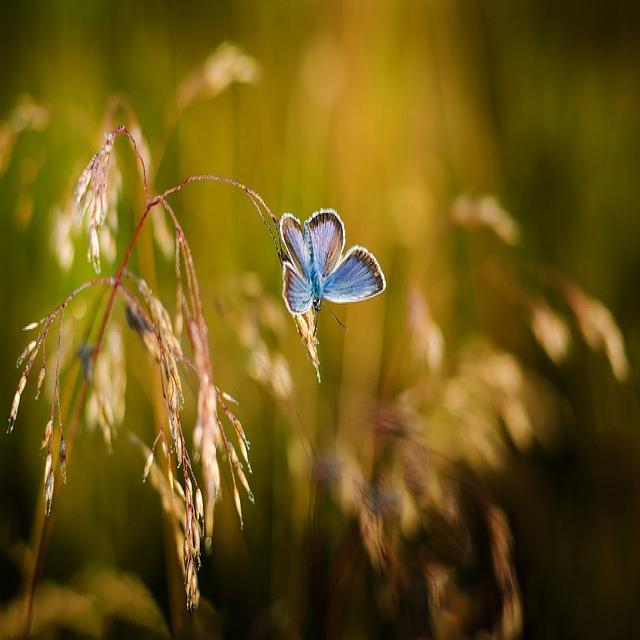butterfly: (276, 209, 386, 367)
